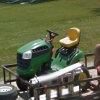Tractor: (8, 22, 91, 86)
